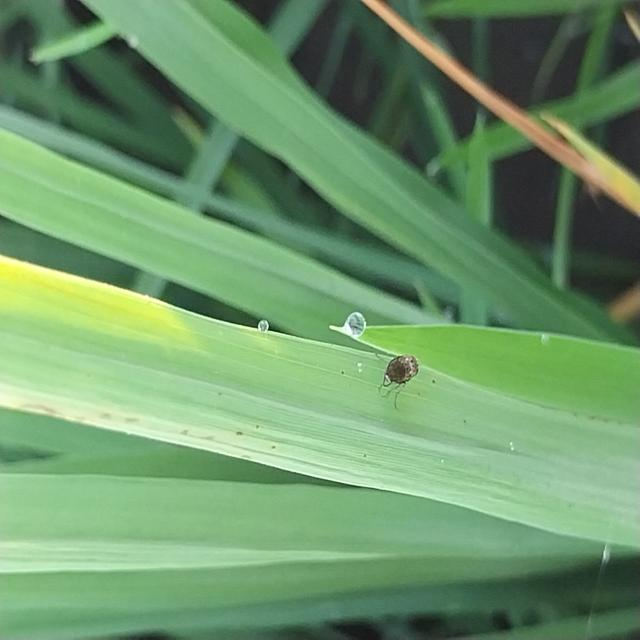healthy: (368, 333, 429, 392)
